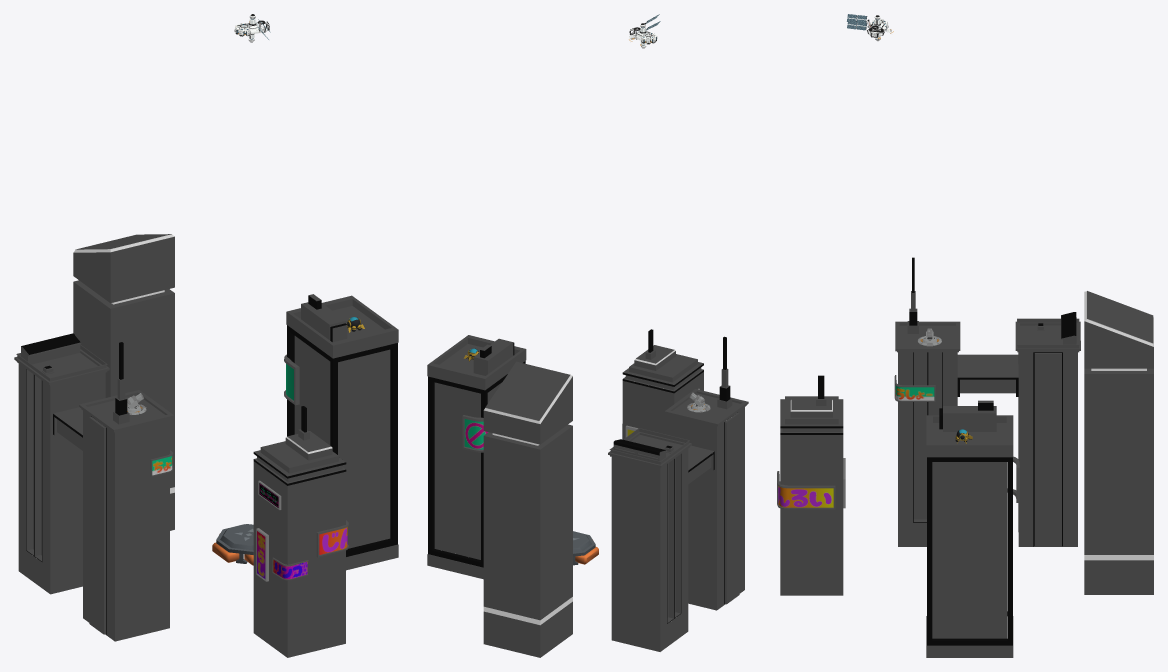
File: Metropolis-transformed.glb
3 renders of one model, left to right at view 1: azimuth 30°, elevation 25°; view 2: azimuth 150°, elevation 25°; view 3: azimuth 270°, elevation 25°, orthographic. The views are drawn at different scales.
Visible parts, largest first — view 1: Highrise_12.002, Highrise_12.003, landingpad_small; view 2: Highrise_12.002, Highrise_12.003, landingpad_small; view 3: Highrise_12.002, Highrise_12.003.
Boxes of the visible parts, <box> form: Highrise_12.002: <box>14,14,398,657</box>; Highrise_12.003: <box>26,364,347,634</box>; landingpad_small: <box>212,524,253,565</box>; Highrise_12.002: <box>427,14,748,657</box>; Highrise_12.003: <box>464,329,737,623</box>; landingpad_small: <box>573,531,598,565</box>; Highrise_12.002: <box>777,14,1153,657</box>; Highrise_12.003: <box>778,312,1062,546</box>.
Size of the model in its own units: 60.38 by 116 by 69.99.
Materials: 8 (8 with a texture image).
